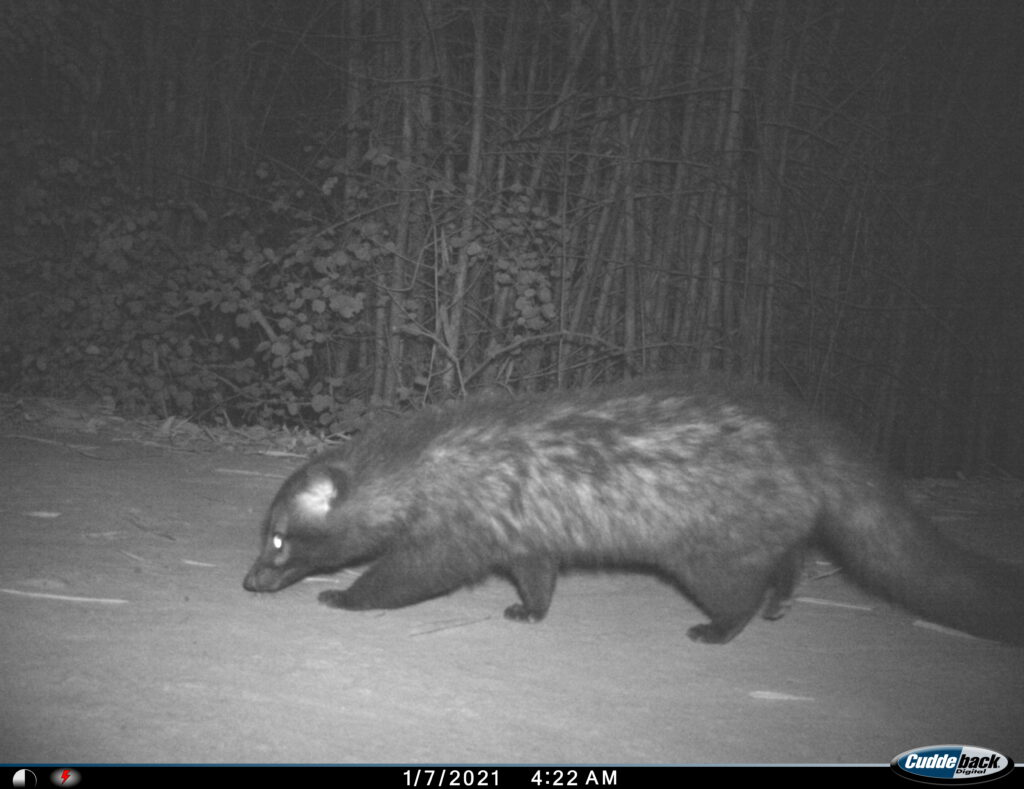Civet: (236, 359, 1024, 679)
